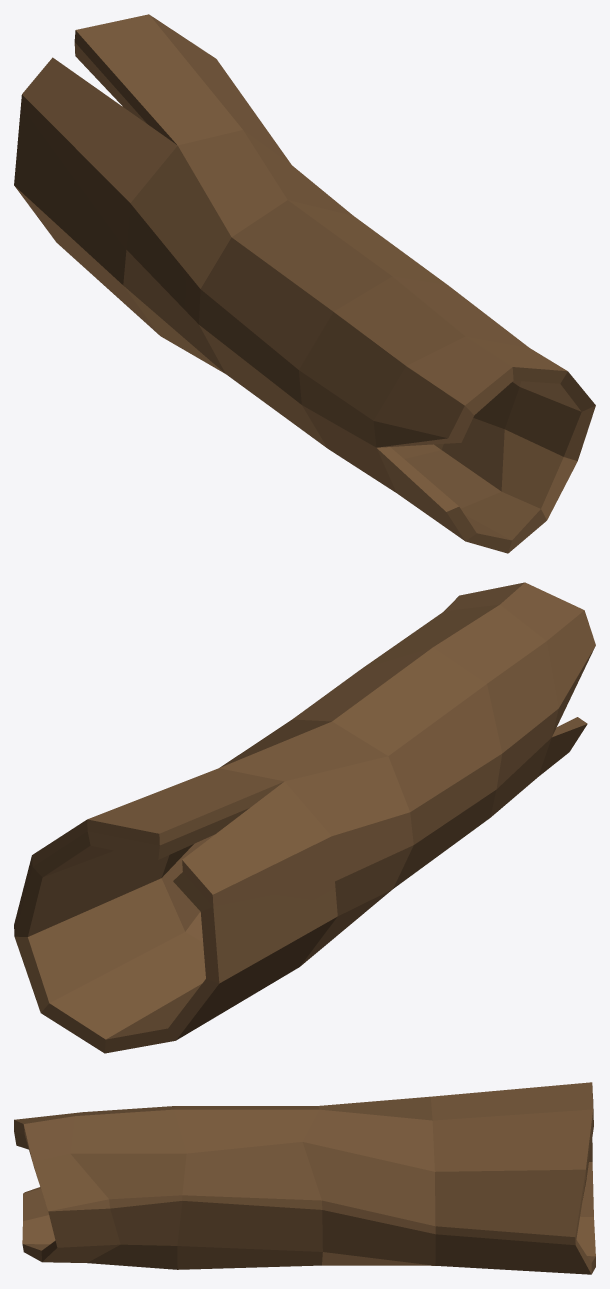
Rendered from wild_pz_log_02.glb.
3 views of the same model, one above another, from view 1: azimuth 30°, elevation 25°; view 2: azimuth 150°, elevation 25°; view 3: azimuth 270°, elevation 25° (orthographic). The views are drawn at different scales.
Visible parts, largest first — view 1: pg_log_02; view 2: pg_log_02; view 3: pg_log_02.
Part boxes in pixels (box(x1,y1,x2,y2)): pg_log_02: box(14, 14, 595, 553); pg_log_02: box(14, 582, 595, 1053); pg_log_02: box(14, 1082, 595, 1274).
Size of the model in its own units: 0.9295 by 0.9162 by 2.89.
